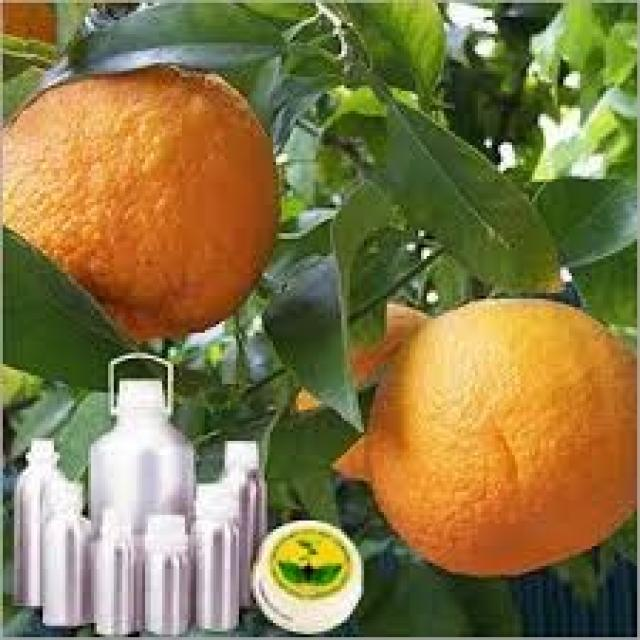Good_Orange: (353, 299, 637, 580), (0, 65, 279, 347)
